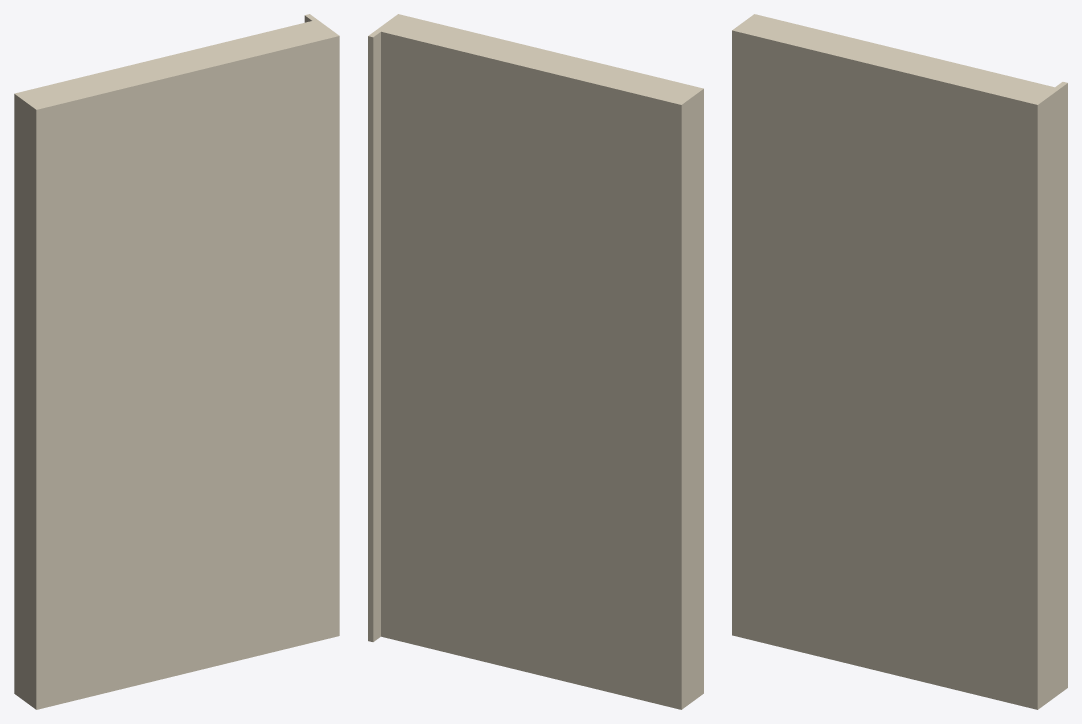
3 renders of one model, left to right at view 1: azimuth 30°, elevation 25°; view 2: azimuth 150°, elevation 25°; view 3: azimuth 330°, elevation 25°, orthographic.
Parts seen in each view (by area): view 1: B-FF-WALL-003; view 2: B-FF-WALL-003; view 3: B-FF-WALL-003.
Part boxes in pixels (x1,y1,x2,y2): B-FF-WALL-003: [14, 14, 339, 709]; B-FF-WALL-003: [368, 14, 703, 709]; B-FF-WALL-003: [732, 14, 1067, 709].
Bounding box in the file's own units: 1.28 × 2.42 × 0.219.
